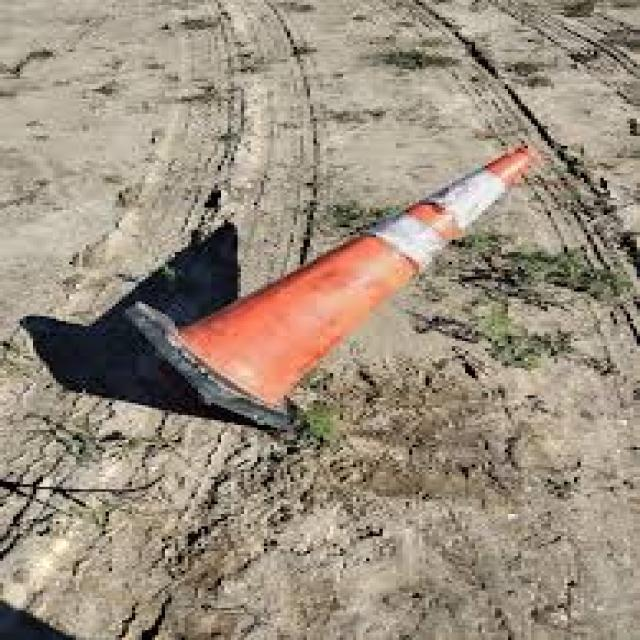Traffic Cone: (38, 56, 586, 473)
